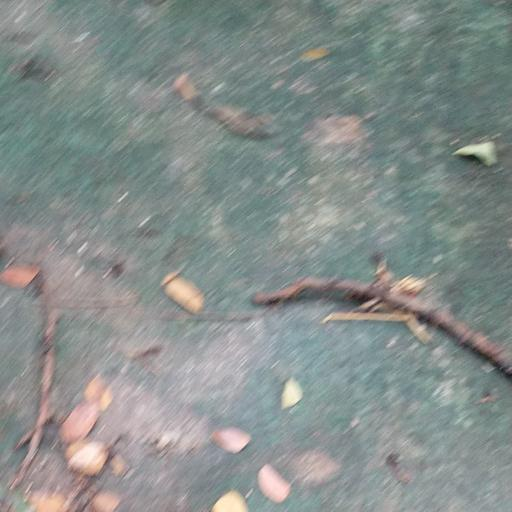algae: (2, 0, 478, 314)
